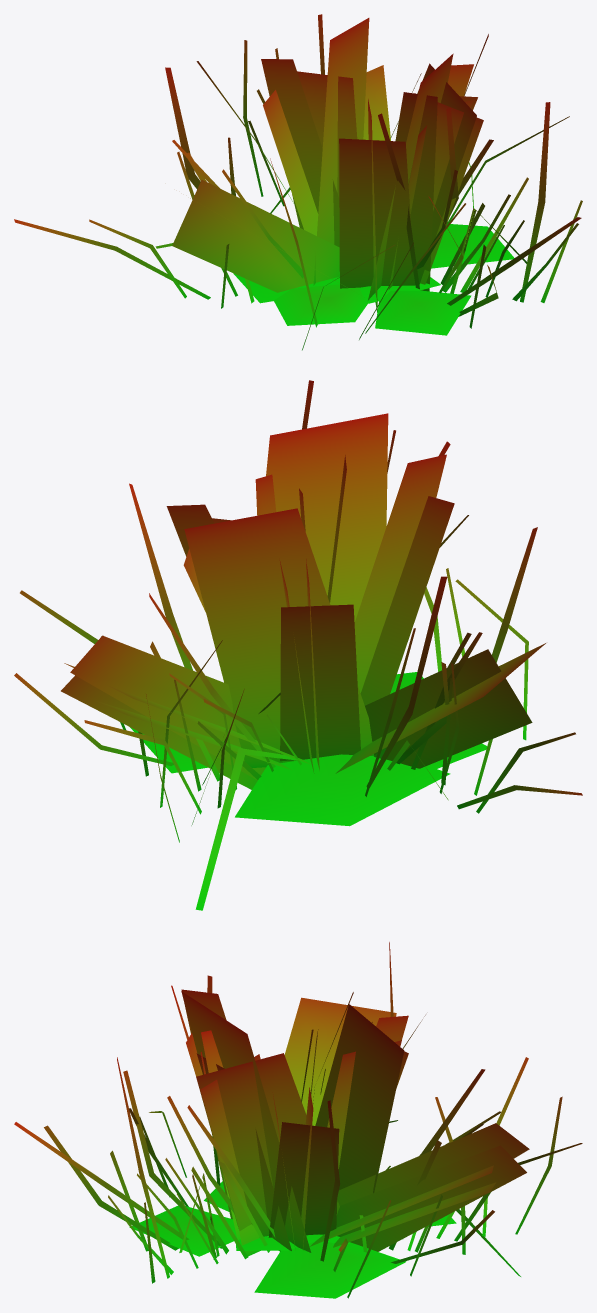
Rendered from Var11_LOD3.fbx.
3 views of the same model, one above another, from view 1: azimuth 30°, elevation 25°; view 2: azimuth 150°, elevation 25°; view 3: azimuth 270°, elevation 25° (orthographic). The views are drawn at different scales.
Visible parts, largest first — view 1: _4c23_Var11_LOD3; view 2: _4c23_Var11_LOD3; view 3: _4c23_Var11_LOD3.
Boxes of the visible parts, x1,y1,x2,y2 form: _4c23_Var11_LOD3: [14, 14, 582, 350]; _4c23_Var11_LOD3: [14, 380, 582, 910]; _4c23_Var11_LOD3: [14, 942, 582, 1298].
Bounding box in the file's own units: 19.01 × 10.24 × 18.14.
